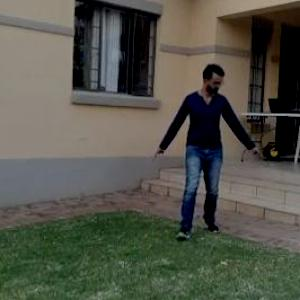land: (149, 64, 255, 239)
